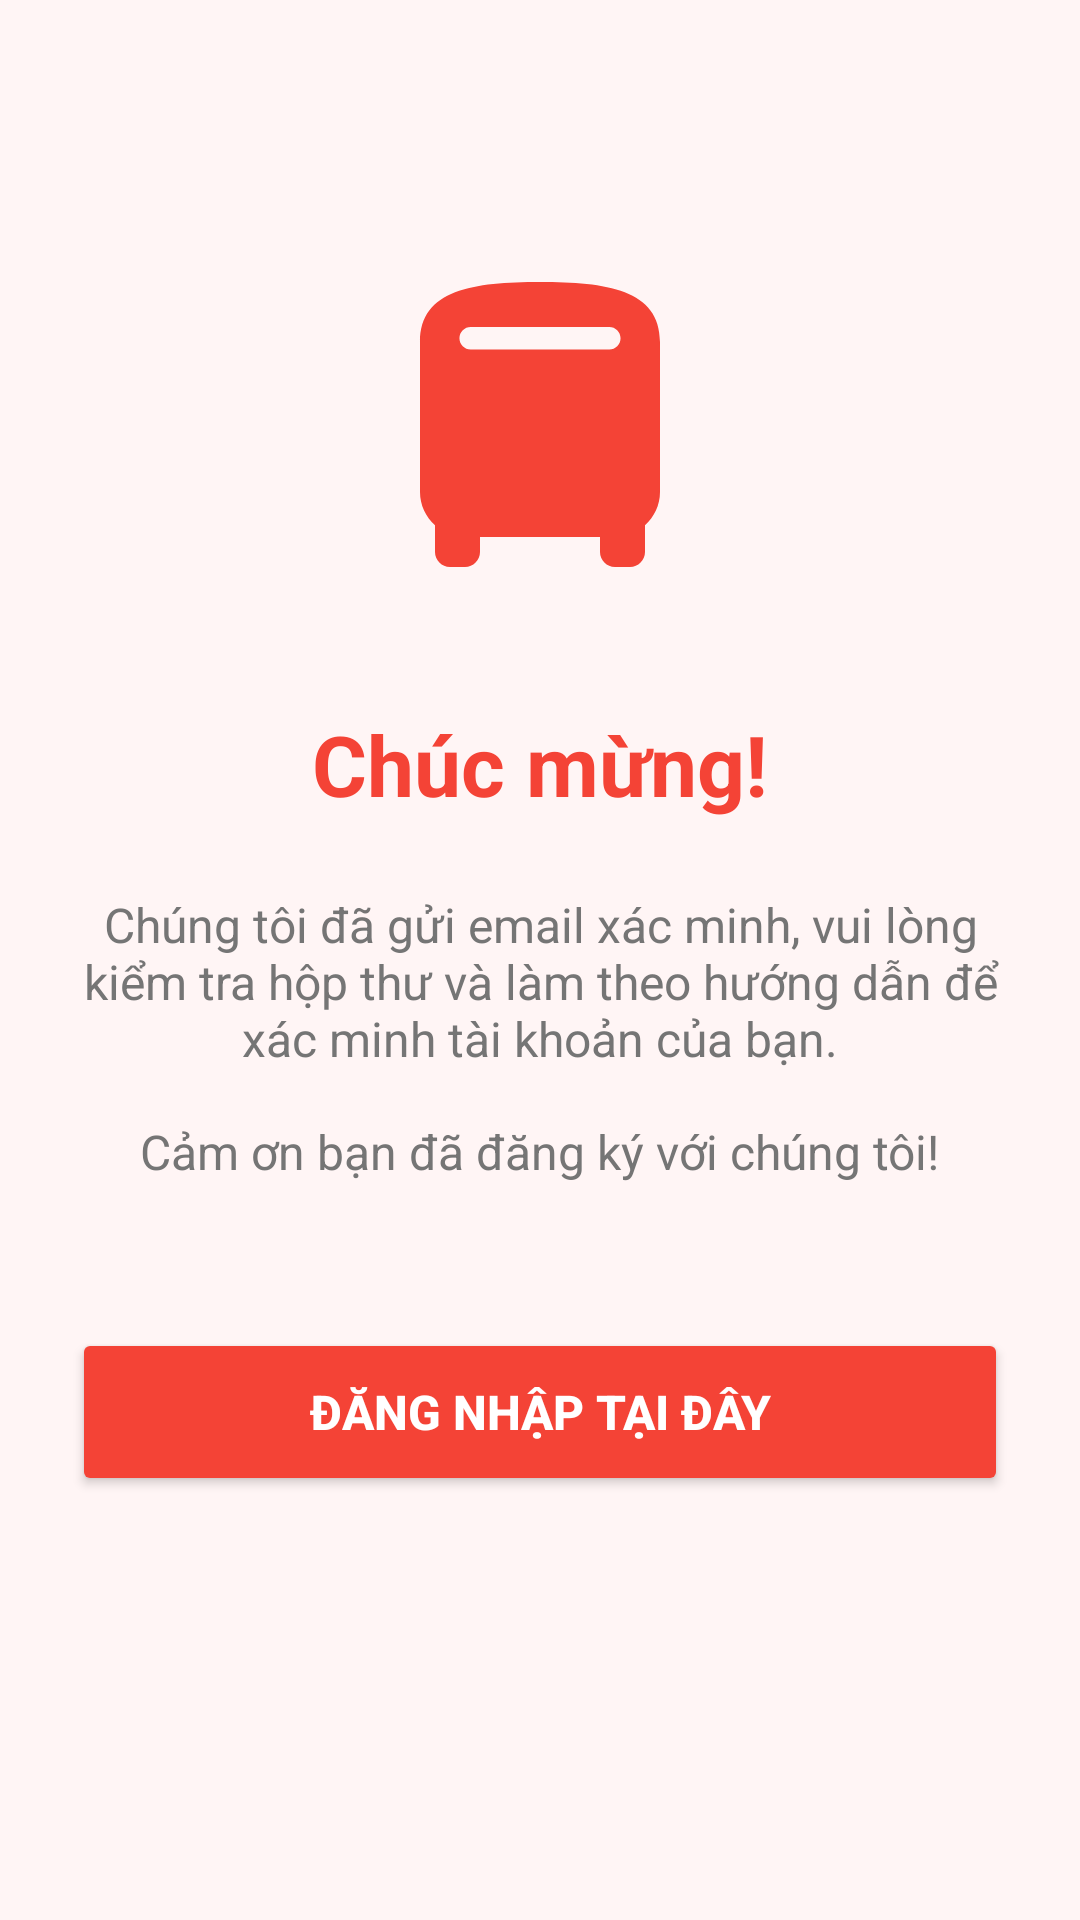

Where to tap for icons on this 1080w x 1920h app screen, as (x=x, y=y):
Bus Icon: (x=540, y=424)
